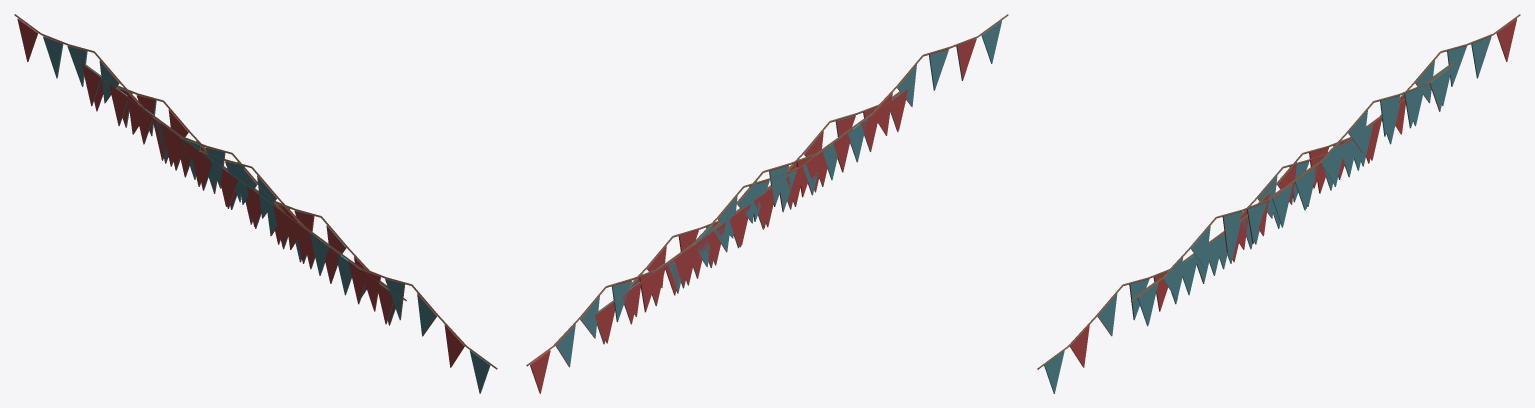
The model's file is bunting.fbx.
3 renders of one model, left to right at view 1: azimuth 30°, elevation 25°; view 2: azimuth 150°, elevation 25°; view 3: azimuth 330°, elevation 25°, orthographic.
Parts seen in each view (by area): view 1: pCube19, pCube10, pCube17, pCube7, pCube18; view 2: pCube19, pCube10, pCube18, pCube7, pCube17; view 3: pCube19, pCube17, pCube10, pCube18, pCube7.
Part boxes in pixels (bbox=[...]): pCube19: bbox=[14, 14, 497, 393]; pCube10: bbox=[78, 61, 401, 324]; pCube17: bbox=[86, 65, 406, 325]; pCube7: bbox=[165, 125, 320, 269]; pCube18: bbox=[155, 121, 316, 262]; pCube19: bbox=[526, 14, 1008, 393]; pCube10: bbox=[592, 83, 914, 344]; pCube18: bbox=[668, 146, 829, 293]; pCube7: bbox=[678, 143, 832, 285]; pCube17: bbox=[598, 91, 905, 343]; pCube19: bbox=[1037, 14, 1520, 393]; pCube17: bbox=[1131, 64, 1453, 326]; pCube10: bbox=[1132, 61, 1456, 323]; pCube18: bbox=[1218, 120, 1378, 262]; pCube7: bbox=[1214, 124, 1371, 269].
Bounding box in the file's own units: 7.01 × 127 × 1845.
Materials: 1 (1 with a texture image).
